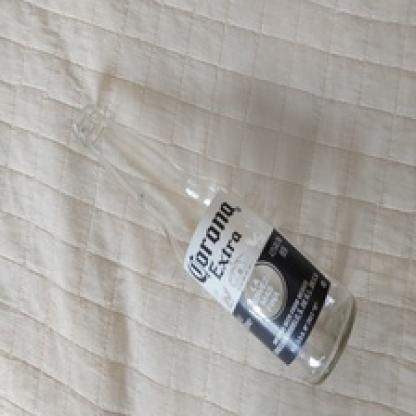Can: (68, 102, 376, 386)
